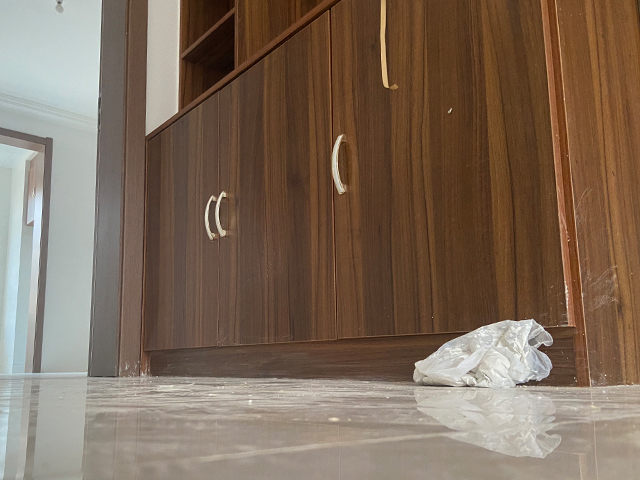cabinet: (141, 1, 640, 388)
